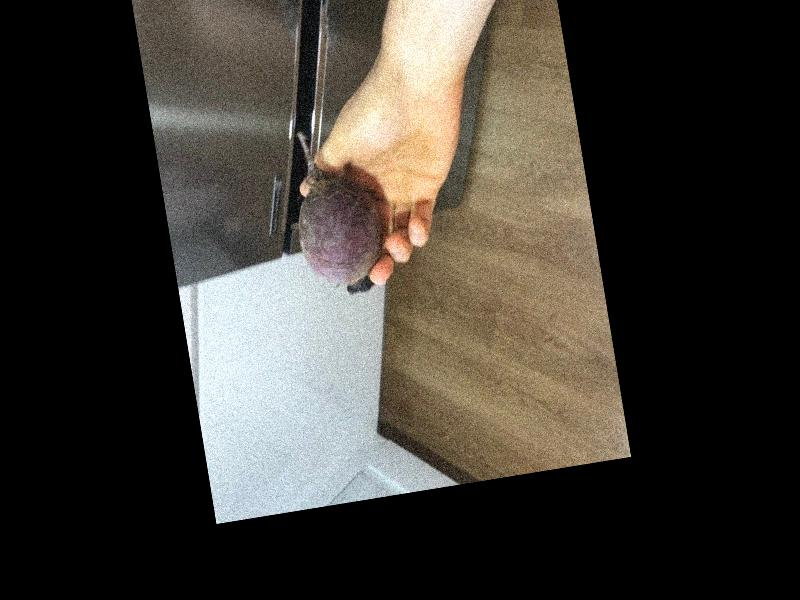Beet: (284, 123, 389, 302)
